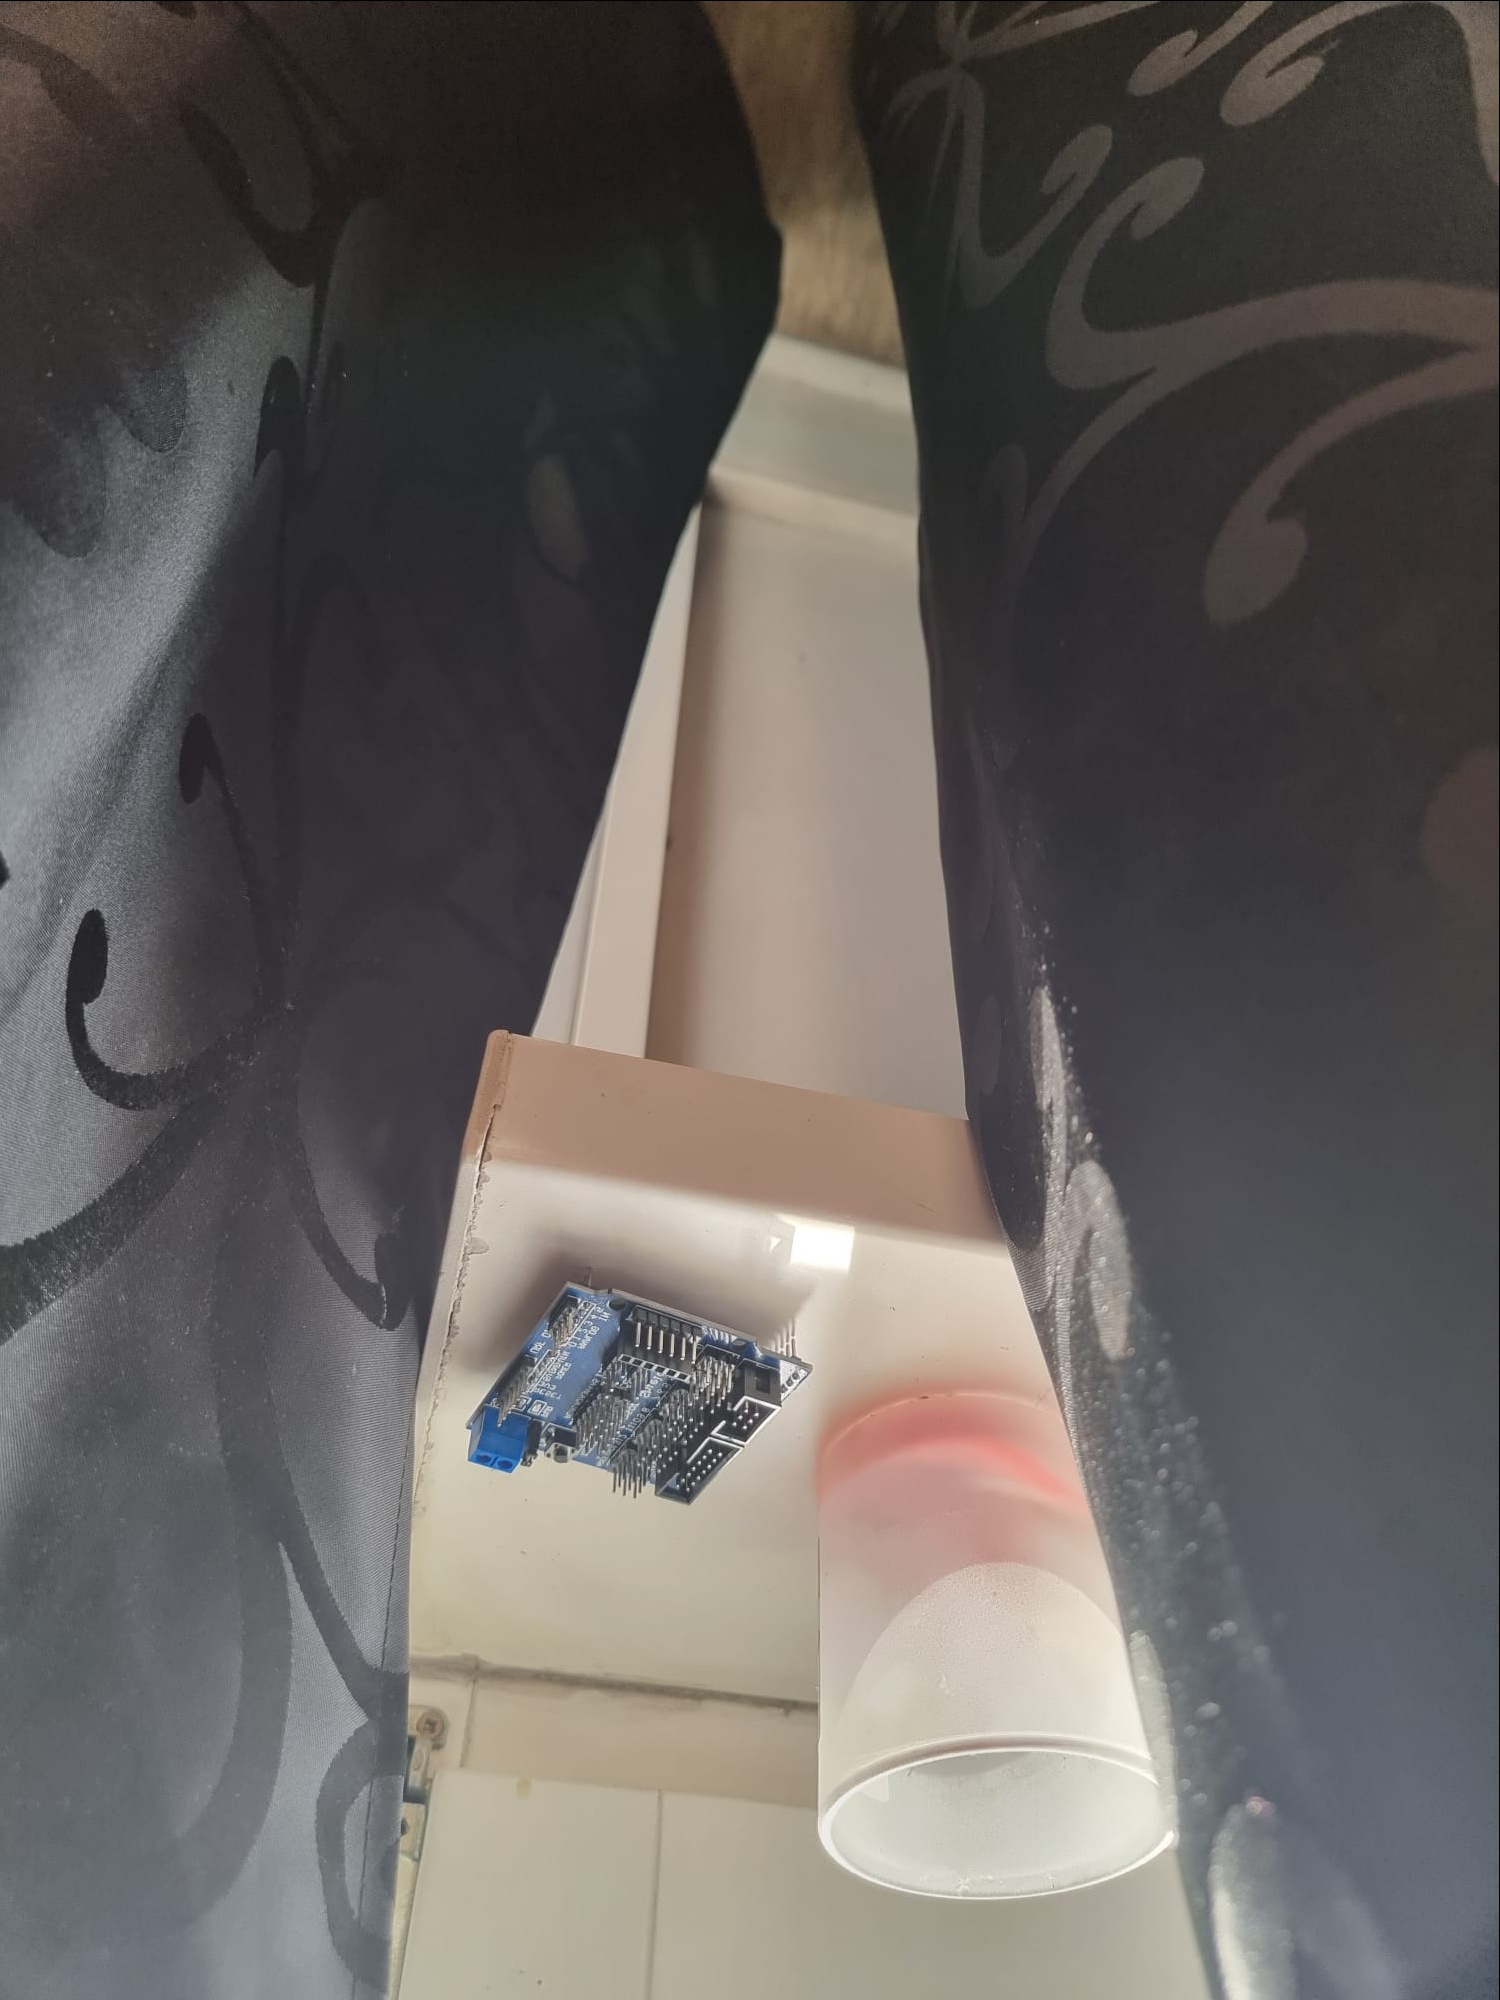5V EXPANSION: (455, 1265, 816, 1502)
